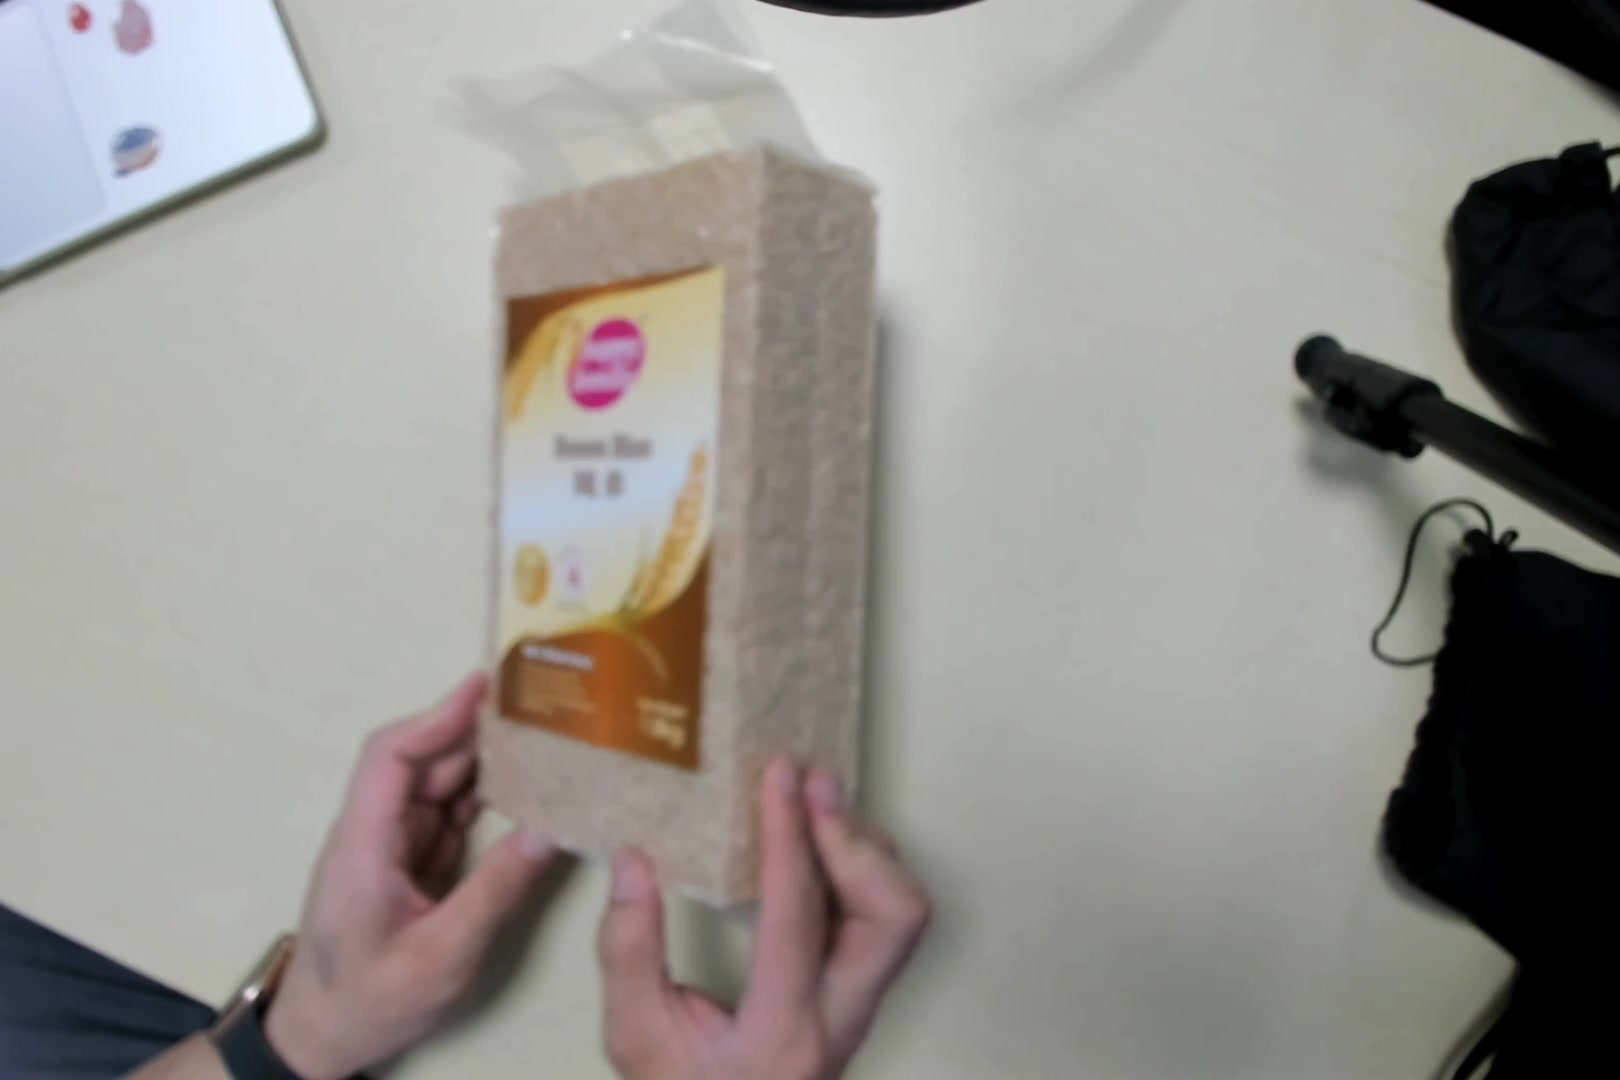Rice(BrownOthers)_1000-1999g_NonHalal_Healthy: (468, 61, 865, 908)
